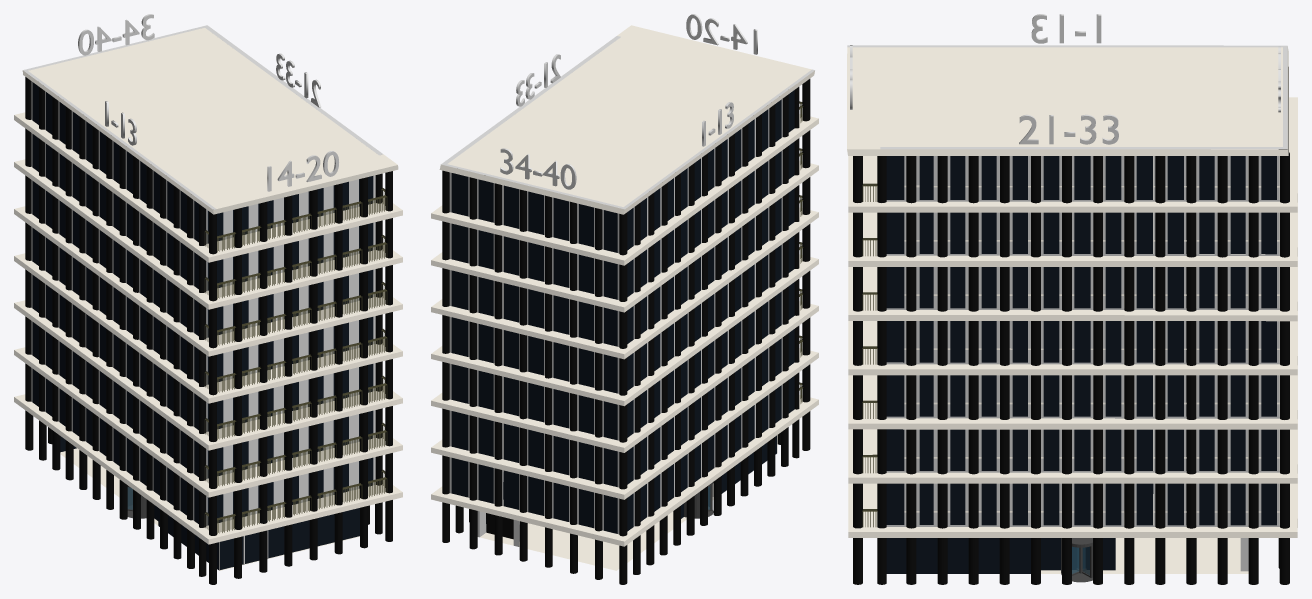
The model's file is 1PancrasSquare.glb.
The picture shows the model from 3 angles, left to right: view 1: azimuth 30°, elevation 25°; view 2: azimuth 150°, elevation 25°; view 3: azimuth 270°, elevation 25°; orthographic projection. The views are drawn at different scales.
Visible parts, largest first — view 1: Cylinder.001, Drop2, Drop4, Drop12, Drop11, Drop5, Drop1, Drop9, Drop3, Drop7, Drop6, Drop10 (+12 smaller); view 2: Cylinder.001, Drop34, Drop37, Drop35, Drop36, Drop38, Drop39, Drop40, Drop5, Drop10, Drop1, Drop11 (+12 smaller); view 3: Cylinder.001, Drop21, Drop27, Drop29, Drop30, Drop26, Drop28, Drop33, Drop31, Drop24, Drop25, Drop32 (+4 smaller).
Part boxes in pixels (x1,y1,x2,y2): Cylinder.001: [14, 25, 402, 584]; Drop2: [46, 92, 52, 416]; Drop4: [73, 112, 79, 436]; Drop12: [180, 191, 186, 515]; Drop11: [167, 181, 173, 505]; Drop5: [86, 121, 92, 446]; Drop1: [32, 82, 38, 406]; Drop9: [140, 161, 146, 485]; Drop3: [59, 102, 65, 426]; Drop7: [113, 141, 119, 465]; Drop6: [100, 131, 106, 455]; Drop10: [153, 171, 159, 495]; Cylinder.001: [431, 25, 818, 584]; Drop34: [451, 173, 468, 497]; Drop37: [528, 191, 543, 515]; Drop35: [478, 179, 493, 503]; Drop36: [503, 185, 518, 509]; Drop38: [553, 198, 568, 521]; Drop39: [579, 204, 593, 528]; Drop40: [604, 210, 617, 533]; Drop5: [681, 168, 687, 491]; Drop10: [748, 119, 754, 442]; Drop1: [627, 208, 633, 531]; Drop11: [762, 109, 768, 432]; Cylinder.001: [847, 45, 1297, 584]; Drop21: [886, 156, 904, 524]; Drop27: [1074, 156, 1090, 525]; Drop29: [1136, 156, 1152, 525]; Drop30: [1167, 156, 1183, 525]; Drop26: [1043, 156, 1059, 525]; Drop28: [1105, 156, 1121, 525]; Drop33: [1261, 156, 1276, 525]; Drop31: [1199, 156, 1214, 525]; Drop24: [981, 156, 996, 525]; Drop25: [1012, 156, 1027, 525]; Drop32: [1230, 156, 1245, 525].
Bounding box in the file's own units: 9.4 × 18.79 × 16.38.
Materials: 9 (2 with a texture image).
